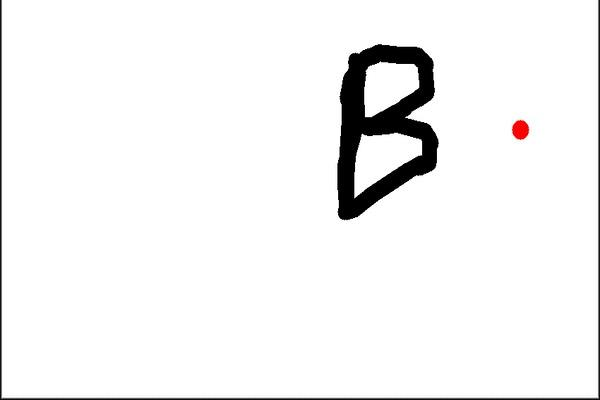B: (323, 37, 448, 228)
